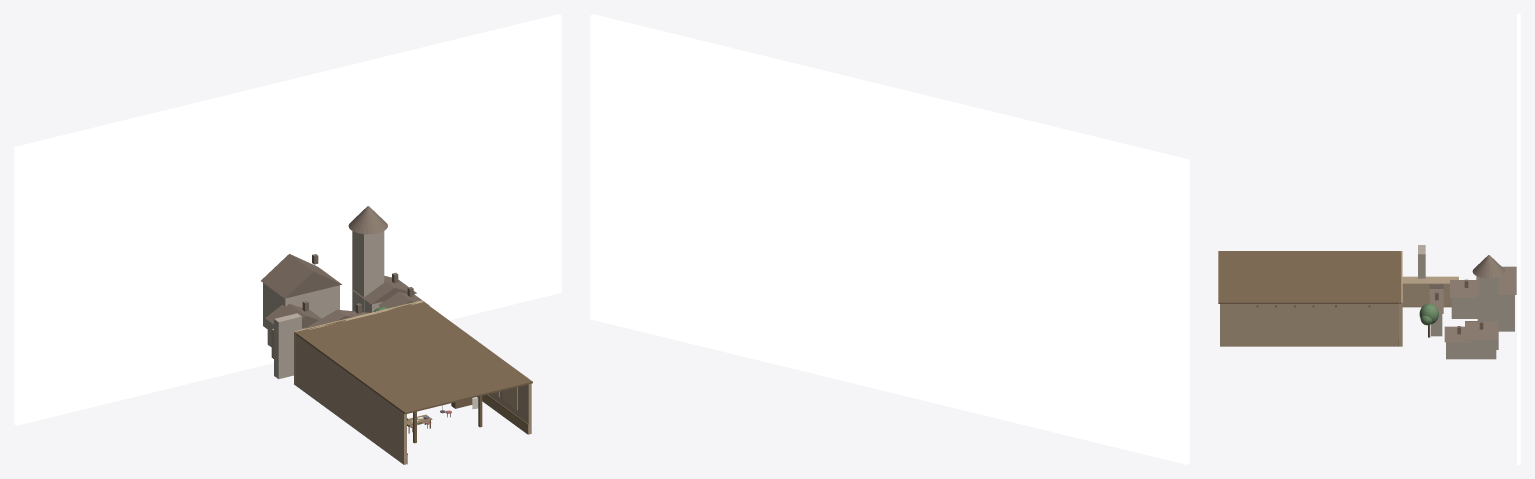
The model's file is studio.glb.
3 views of the same model, side by side, from view 1: azimuth 30°, elevation 25°; view 2: azimuth 150°, elevation 25°; view 3: azimuth 270°, elevation 25° (orthographic). The views are drawn at different scales.
Visible parts, largest first — view 1: sky, ceiling, wall_l, tower, house4_roof, house4, edge_bldg, wall_r, tower_cap, house2_roof, house1_roof; view 2: sky; view 3: ceiling, wall_r, sky, tower, cor_wall_r, house4, house2, house2_roof, house4_roof, house1, tower_cap, house1_roof (+4 smaller).
Boxes of the visible parts, x1=… form: sky: x1=14, y1=14, x2=561, y2=425; ceiling: x1=295, y1=302, x2=532, y2=414; wall_l: x1=296, y1=335, x2=406, y2=464; tower: x1=352, y1=231, x2=384, y2=312; house4_roof: x1=261, y1=254, x2=341, y2=298; house4: x1=263, y1=283, x2=339, y2=328; edge_bldg: x1=274, y1=313, x2=301, y2=379; wall_r: x1=488, y1=383, x2=531, y2=434; tower_cap: x1=348, y1=206, x2=387, y2=234; house2_roof: x1=352, y1=276, x2=416, y2=304; house1_roof: x1=265, y1=304, x2=321, y2=328; sky: x1=590, y1=14, x2=1189, y2=464; ceiling: x1=1218, y1=251, x2=1401, y2=303; wall_r: x1=1220, y1=304, x2=1399, y2=346; sky: x1=1517, y1=14, x2=1520, y2=464; tower: x1=1479, y1=277, x2=1498, y2=349; cor_wall_r: x1=1402, y1=284, x2=1451, y2=306; house4: x1=1477, y1=295, x2=1514, y2=331; house2: x1=1466, y1=339, x2=1496, y2=359; house2_roof: x1=1465, y1=321, x2=1497, y2=339; house4_roof: x1=1476, y1=266, x2=1516, y2=294; house1: x1=1451, y1=298, x2=1477, y2=318; tower_cap: x1=1472, y1=255, x2=1505, y2=278; house1_roof: x1=1450, y1=280, x2=1477, y2=297.
Bounding box in the file's own units: 70 × 34 × 40.5.
